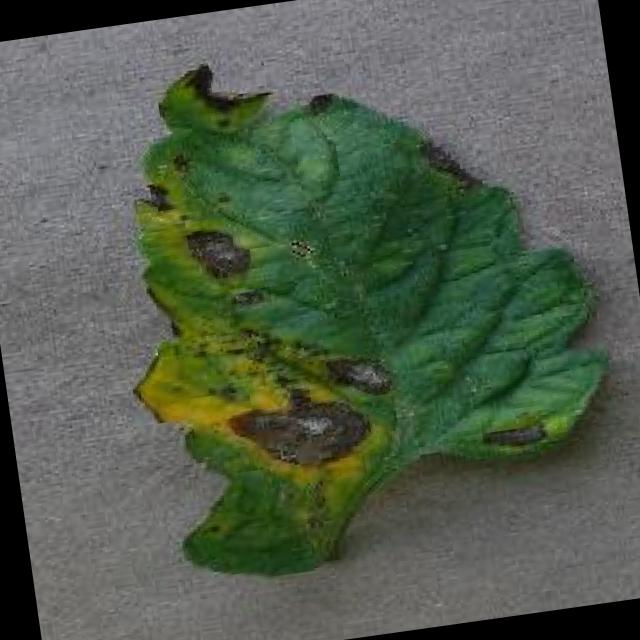Tomato_Early_Blight: (72, 148, 408, 532)
